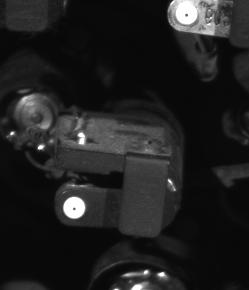fiber: (169, 1, 203, 31), (58, 194, 92, 223)
